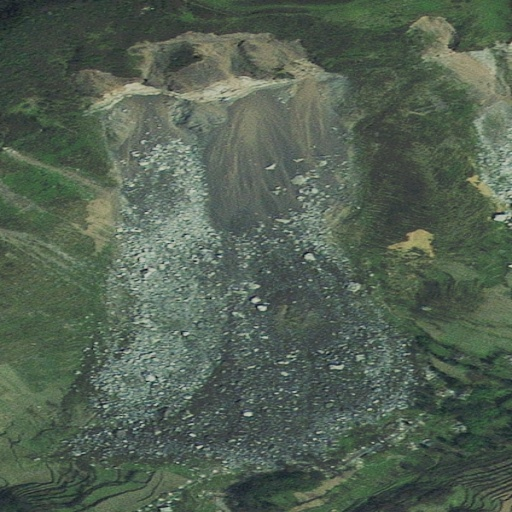landslide: (107, 38, 352, 440)
